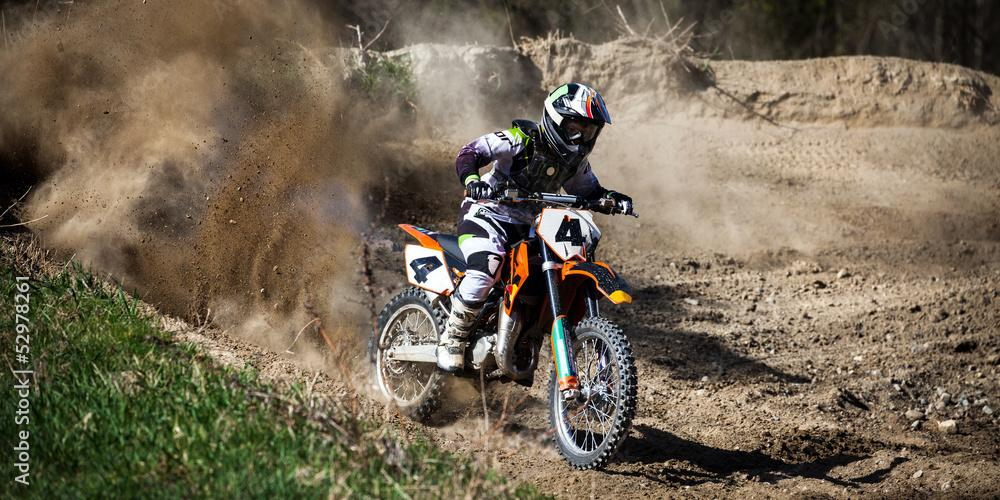helmet: (540, 82, 613, 170)
